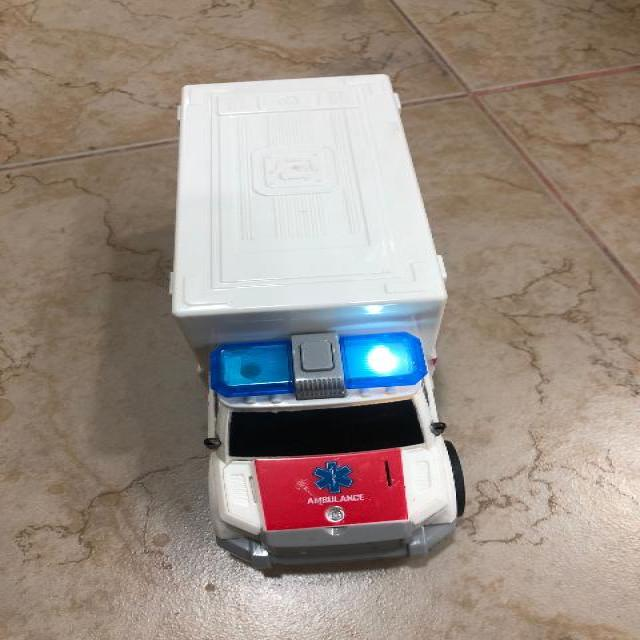emergency-vehicle: (168, 74, 468, 570)
